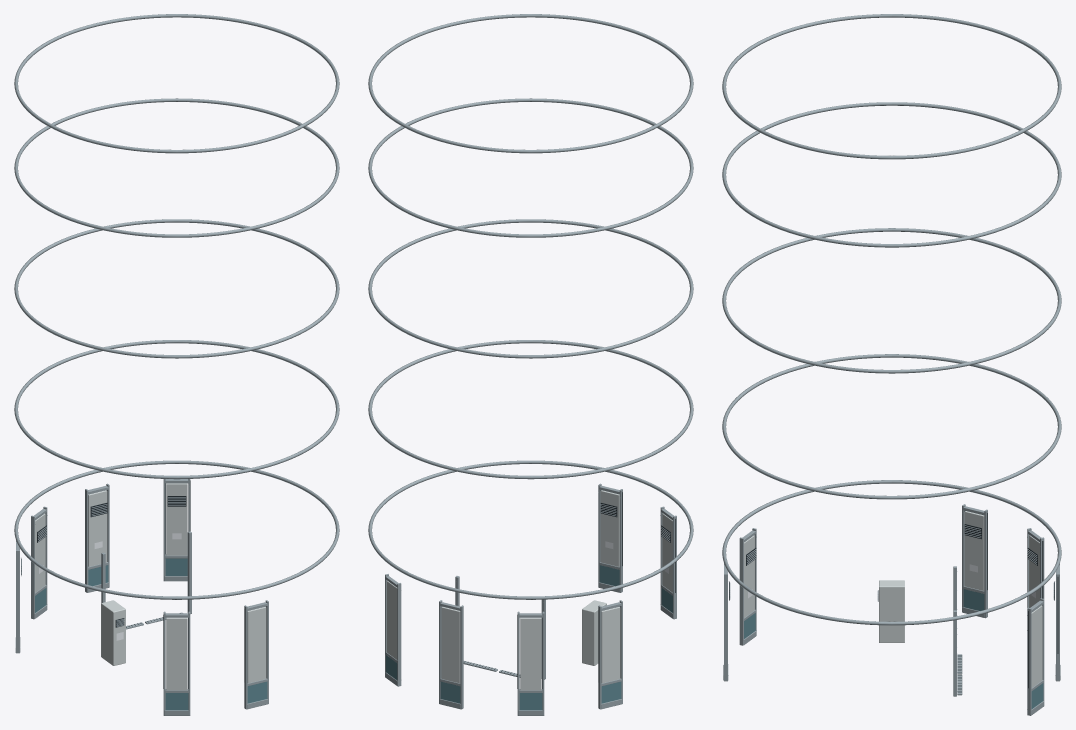
Rendered from SF_VL_Interior.fbx.
The picture shows the model from 3 angles, left to right: view 1: azimuth 30°, elevation 25°; view 2: azimuth 150°, elevation 25°; view 3: azimuth 270°, elevation 25°; orthographic projection. The views are drawn at different scales.
Visible parts, largest first — view 1: SF_VL_Interior; view 2: SF_VL_Interior; view 3: SF_VL_Interior.
Boxes of the visible parts, left/top/right/bottom form: SF_VL_Interior: left=14, top=14, right=339, bottom=715; SF_VL_Interior: left=368, top=14, right=693, bottom=715; SF_VL_Interior: left=722, top=14, right=1061, bottom=715.
Bounding box in the file's own units: 977 × 1876 × 977.
